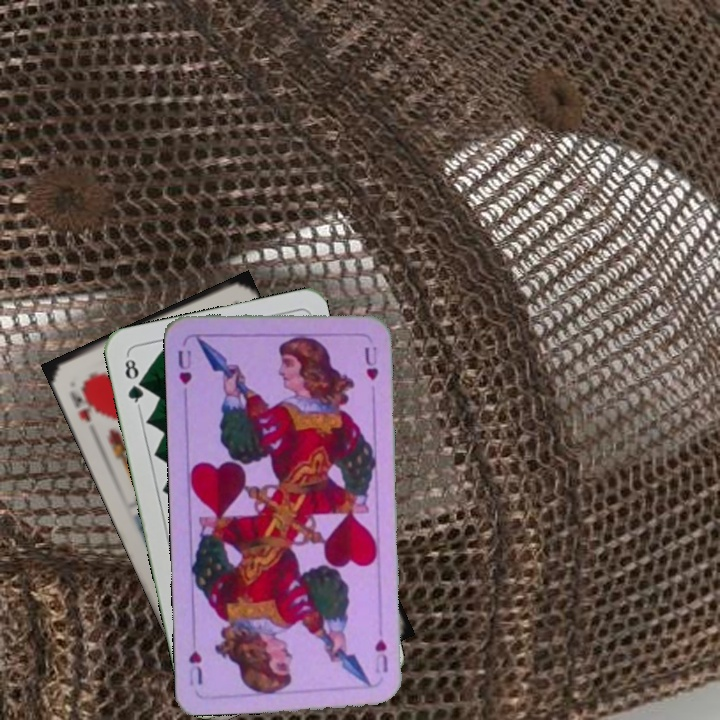G8: (120, 352, 147, 410)
HK: (65, 378, 100, 425)
HU: (173, 346, 195, 387), (370, 635, 391, 676)
